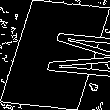M_W: (3, 28, 107, 82)
